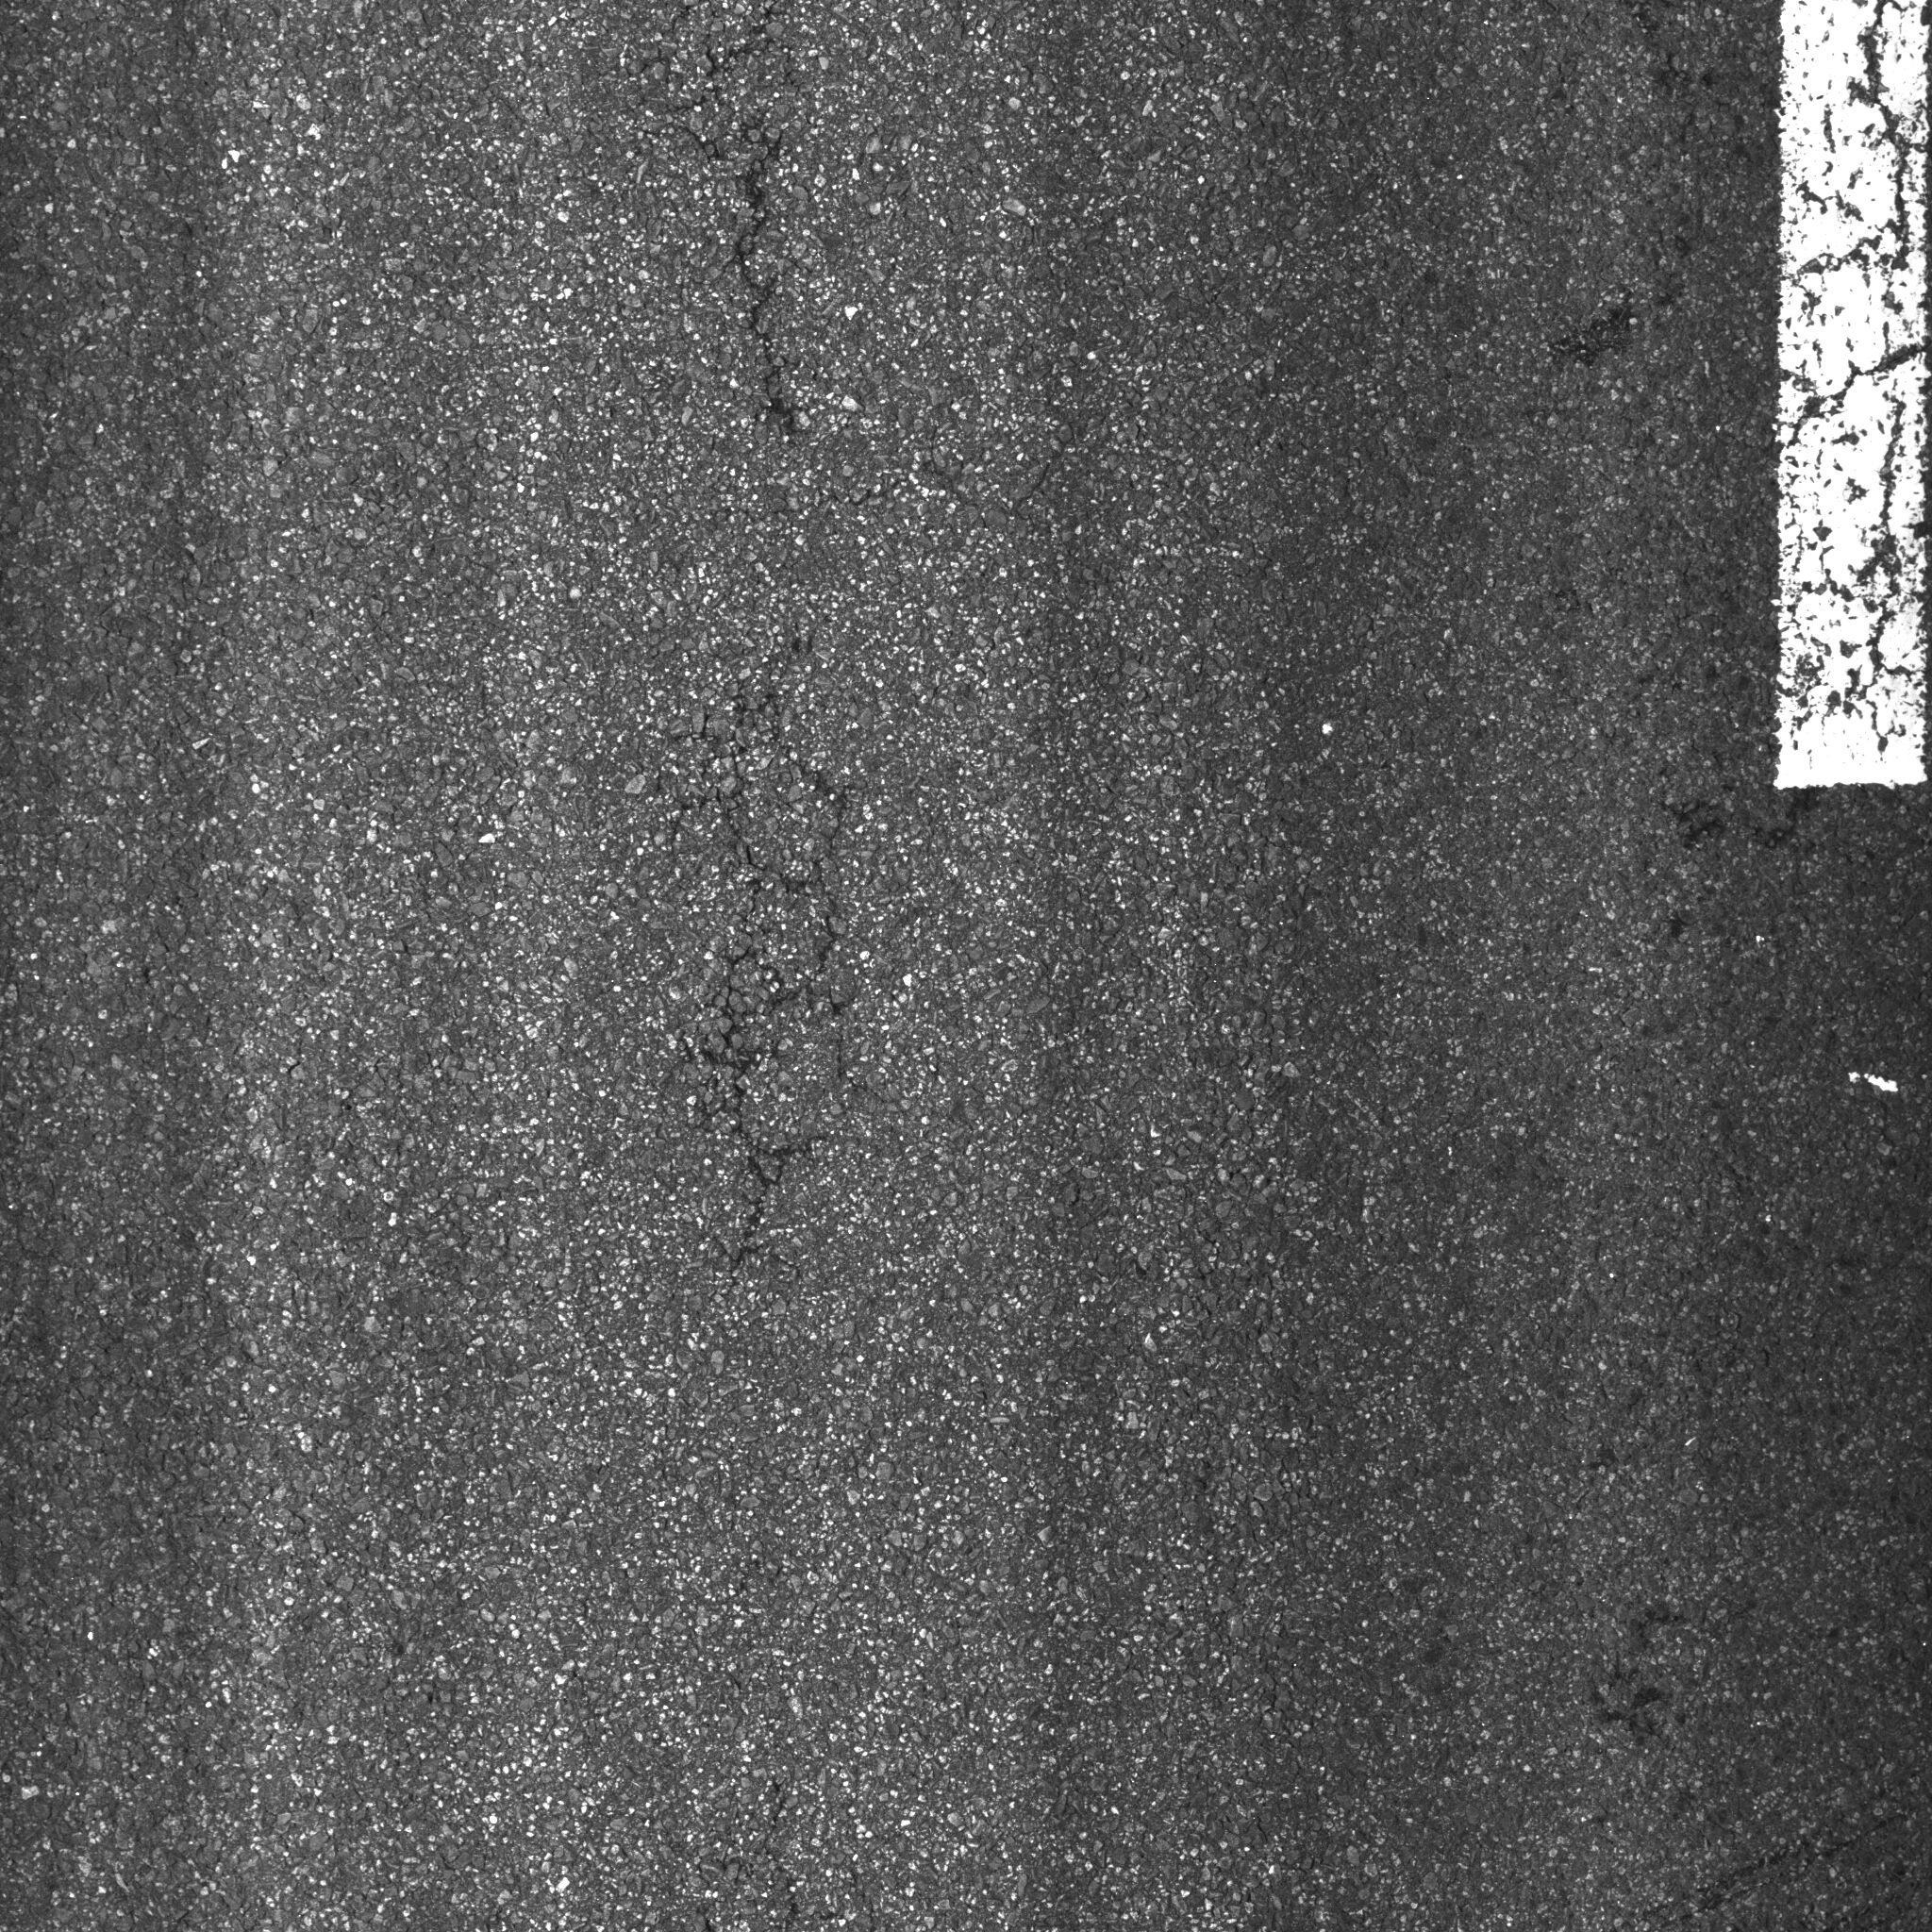longitudinal: (639, 571, 890, 1357), (637, 9, 874, 479)
